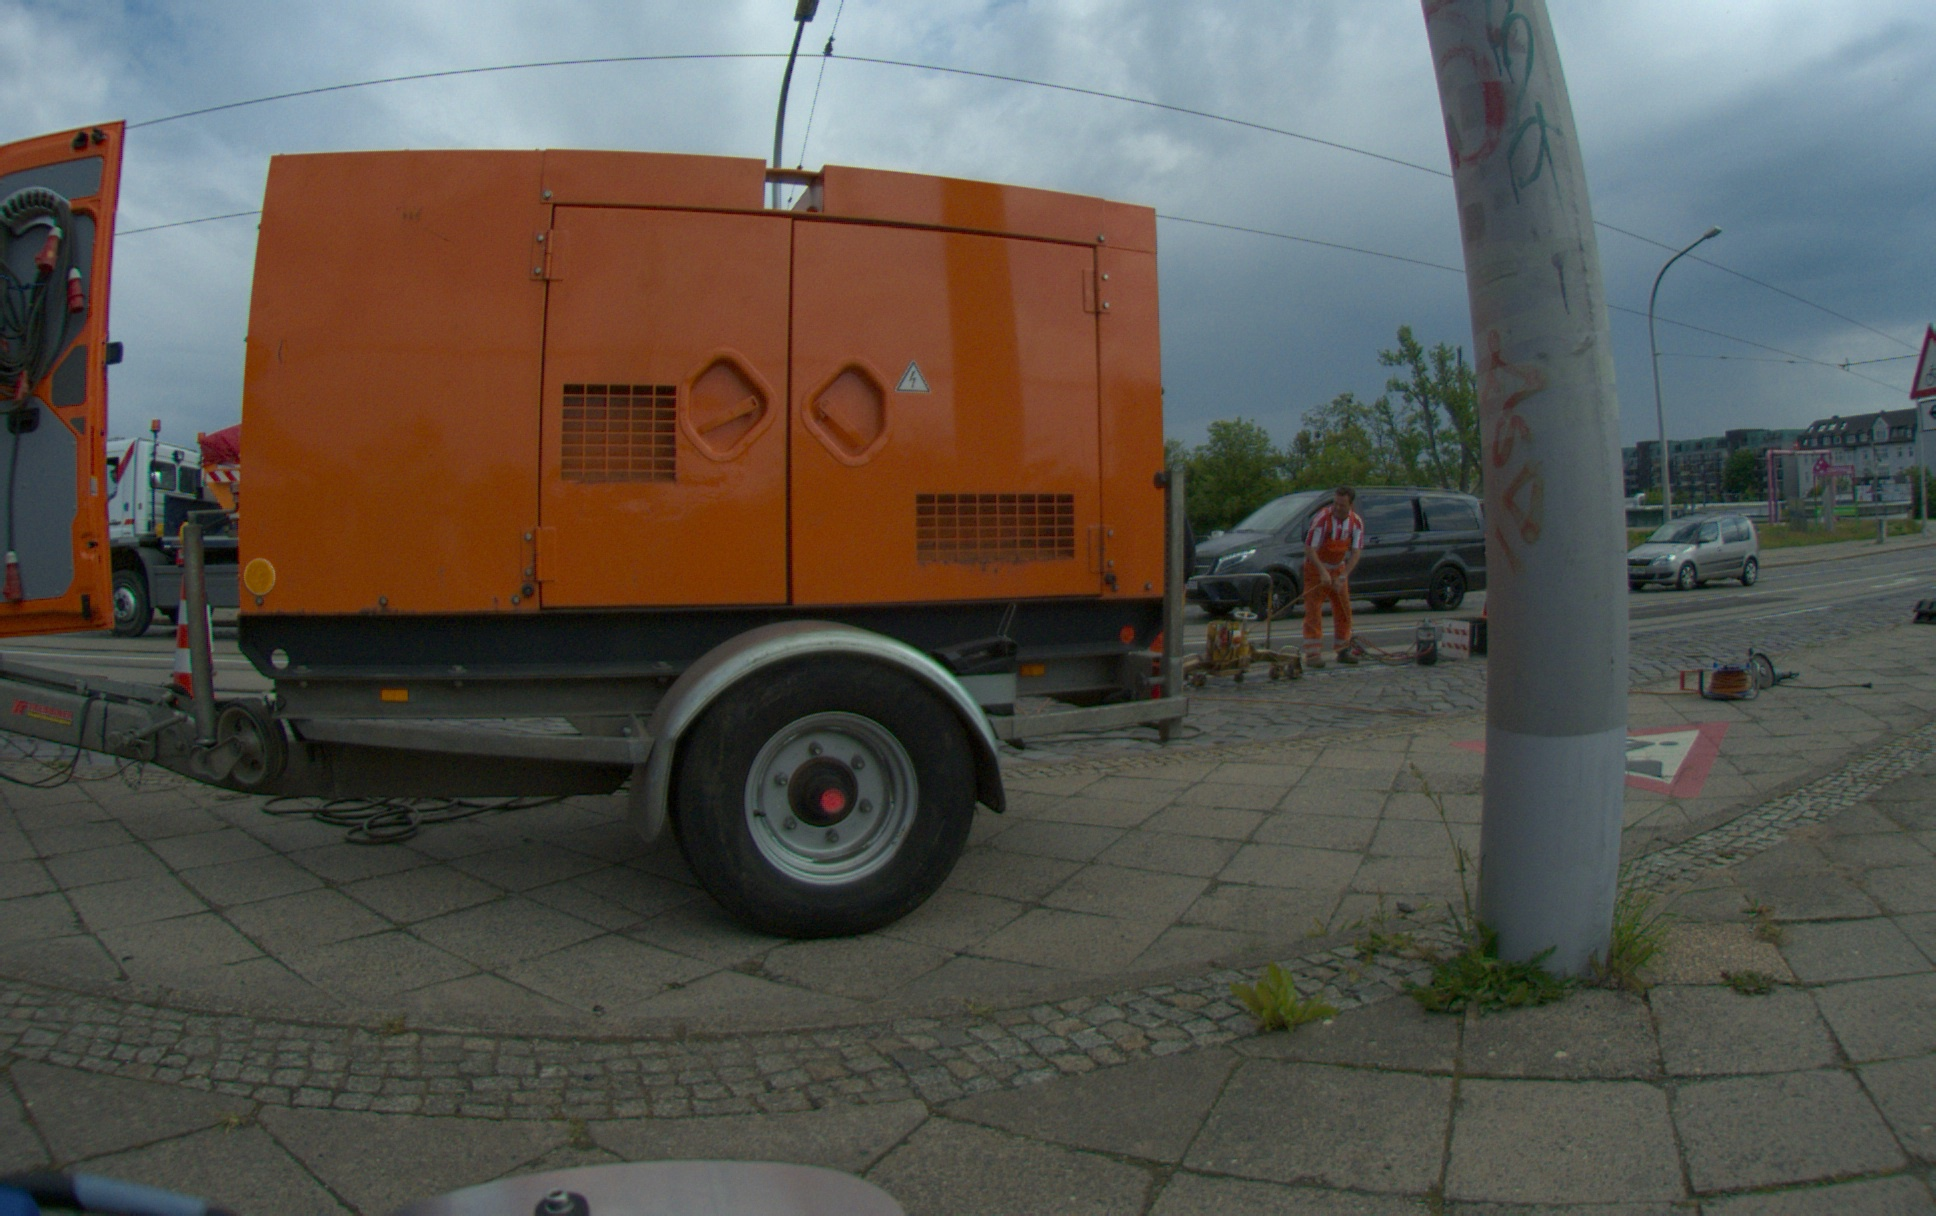30: (1185, 486, 1486, 621)
31: (105, 436, 244, 636)
42: (1304, 486, 1362, 668)
car: (1626, 513, 1758, 590)
